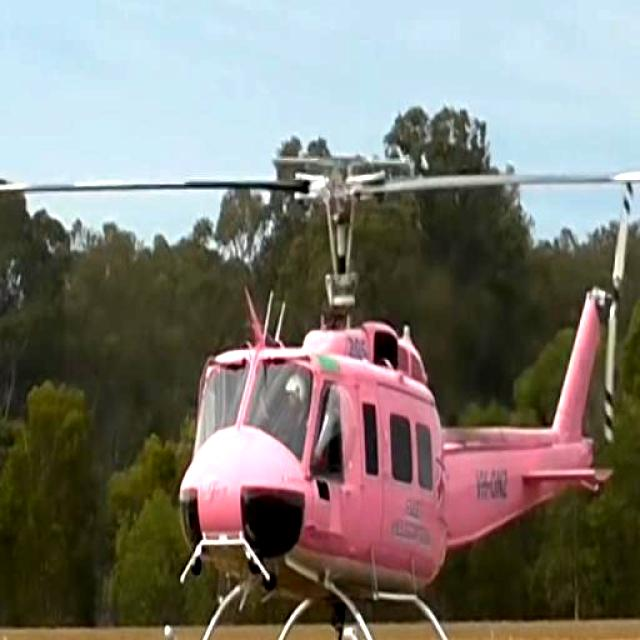drone: (0, 142, 640, 640)
